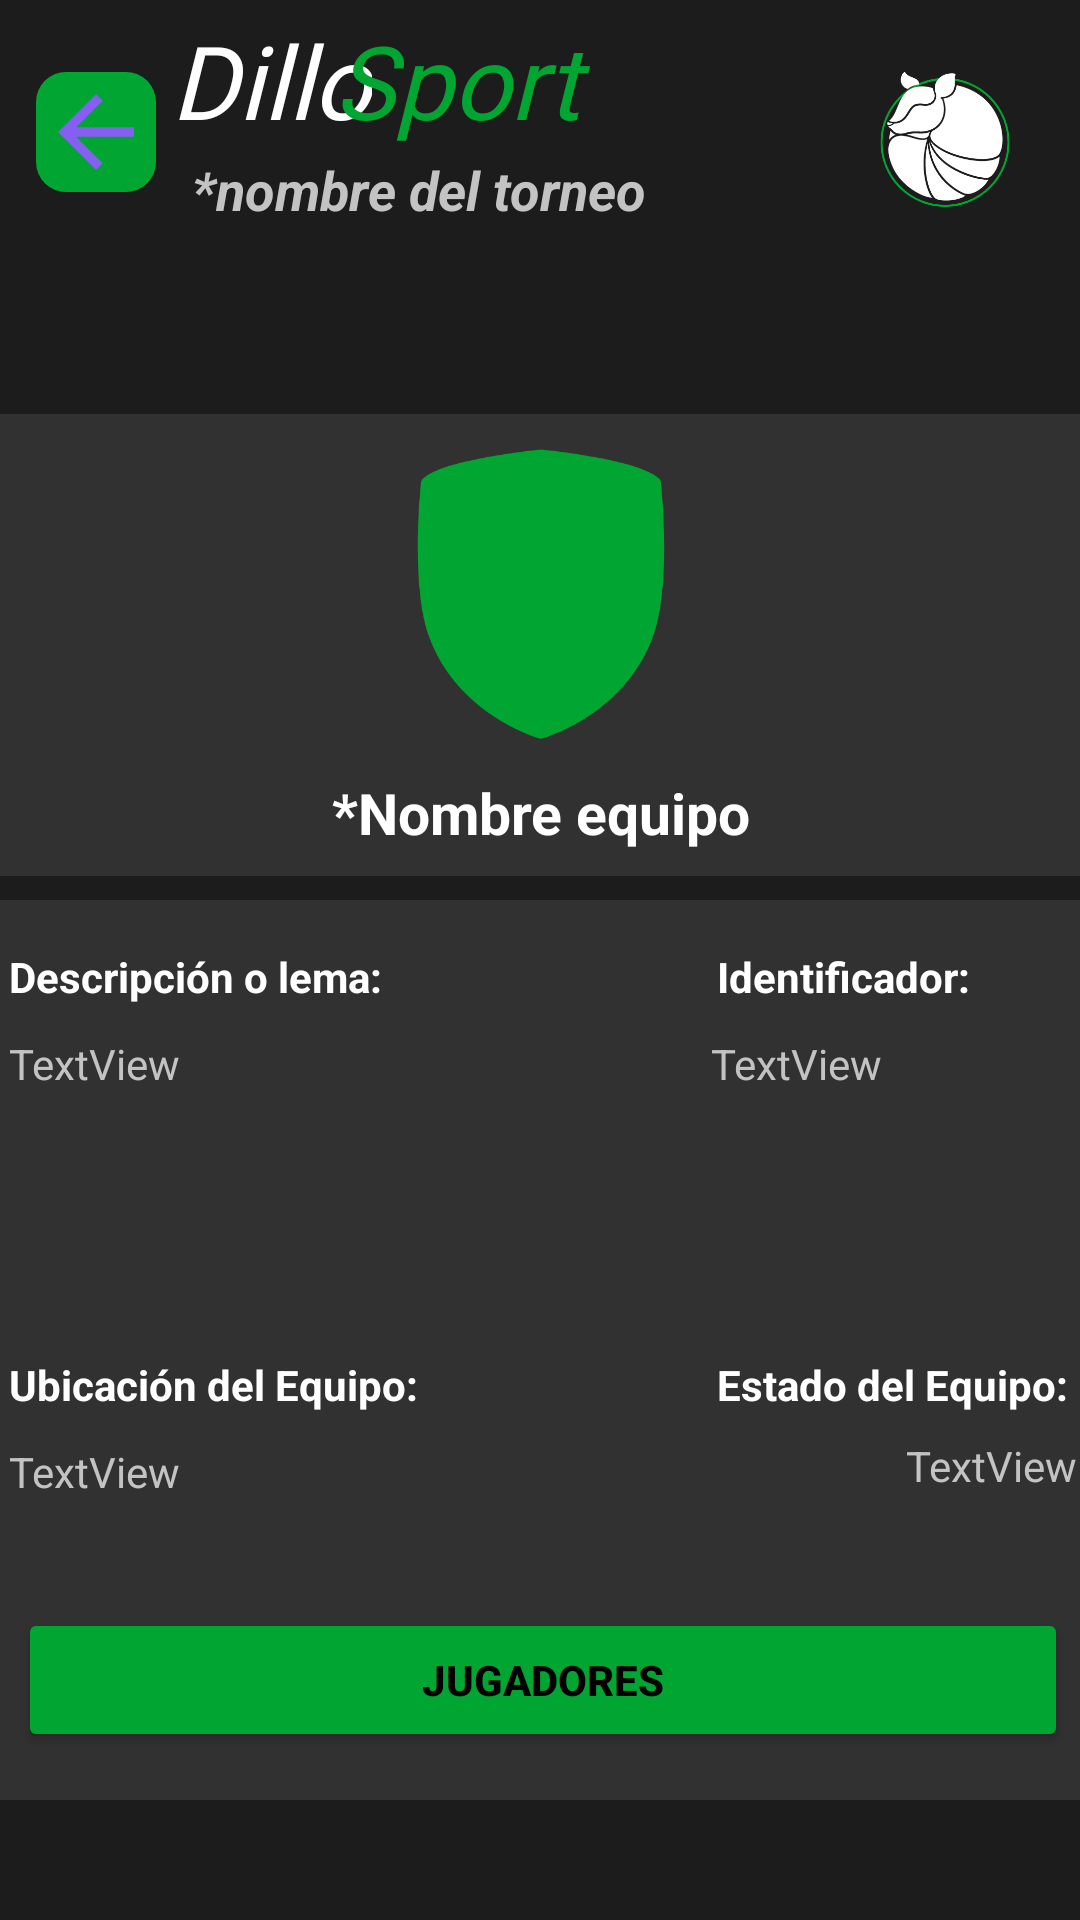

Icon click points for this 1080*1920 phone screenshot, format (x,y):
dillo: (945,139)
